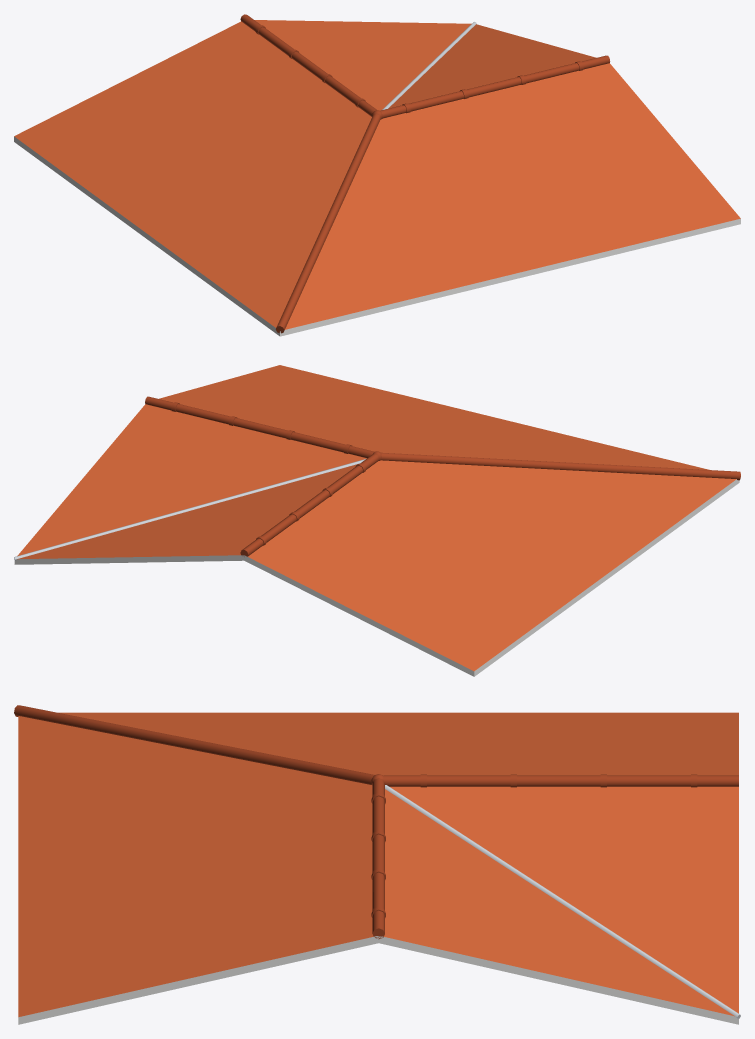
The model's file is telhado_canto_l_v8_i25.glb.
The picture shows the model from 3 angles, top to bottom: view 1: azimuth 30°, elevation 25°; view 2: azimuth 150°, elevation 25°; view 3: azimuth 270°, elevation 25°; orthographic projection. The views are drawn at different scales.
Parts seen in each view (by area): view 1: telhado_canto_l_v8_i25; view 2: telhado_canto_l_v8_i25; view 3: telhado_canto_l_v8_i25.
Boxes of the visible parts, x1=… form: telhado_canto_l_v8_i25: x1=14, y1=14, x2=740, y2=336; telhado_canto_l_v8_i25: x1=14, y1=365, x2=740, y2=676; telhado_canto_l_v8_i25: x1=14, y1=705, x2=740, y2=1024.
Bounding box in the file's own units: 8.07 × 1.2 × 8.07.
4 materials, 1 textured.
